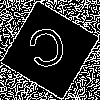C: (25, 25, 72, 79)
